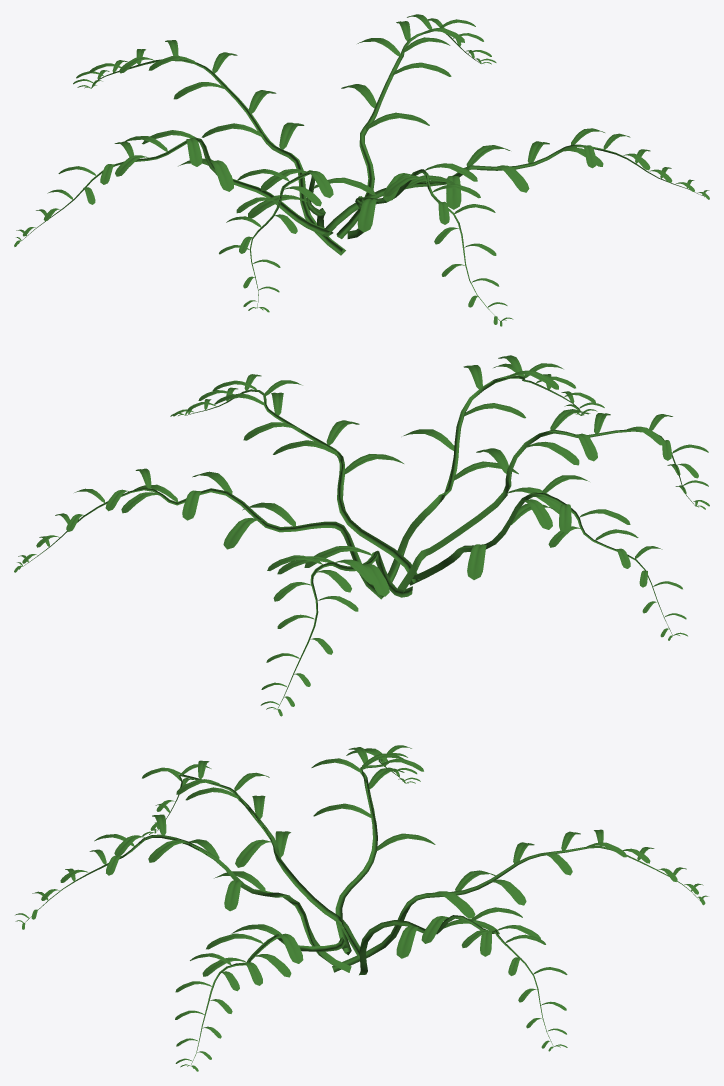
File: plante.glb
3 renders of one model, top to bottom at view 1: azimuth 30°, elevation 25°; view 2: azimuth 150°, elevation 25°; view 3: azimuth 270°, elevation 25°, orthographic. The views are drawn at different scales.
Visible parts, largest first — view 1: plant; view 2: plant; view 3: plant.
Boxes of the visible parts, box(x1,y1,x2,y2) form: plant: box(14, 14, 709, 326); plant: box(14, 355, 709, 716); plant: box(15, 745, 708, 1071).
Size of the model in its own units: 4.55 by 1.09 by 4.77.
